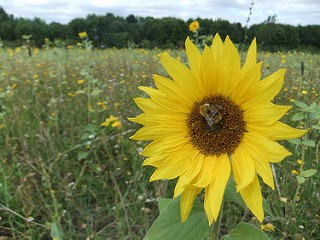flower: (125, 31, 310, 229)
